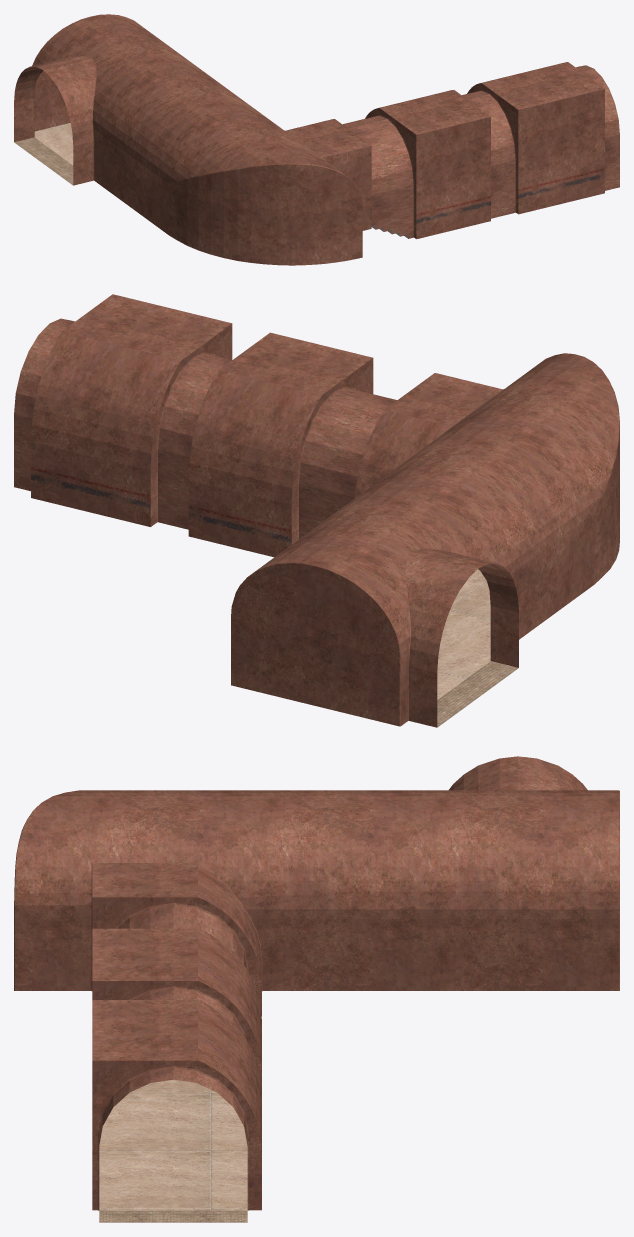
File: thm_nboo_cantina_r14_back_hallway_mesh_r14.fbx
The picture shows the model from 3 angles, top to bottom: view 1: azimuth 30°, elevation 25°; view 2: azimuth 150°, elevation 25°; view 3: azimuth 270°, elevation 25°; orthographic projection. The views are drawn at different scales.
Parts seen in each view (by area): view 1: mesh_node; view 2: mesh_node; view 3: mesh_node.
Boxes of the visible parts, x1,y1,x2,y2 form: mesh_node: (14,14,619,265); mesh_node: (14,294,619,727); mesh_node: (14,756,619,1222).
Bounding box in the file's own units: 21.02 × 5.74 × 17.86.
